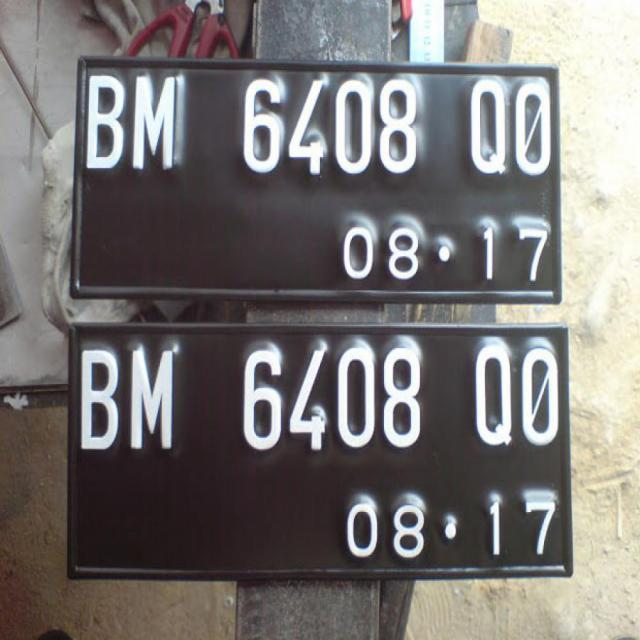clone-license-plate: (65, 57, 579, 302)
